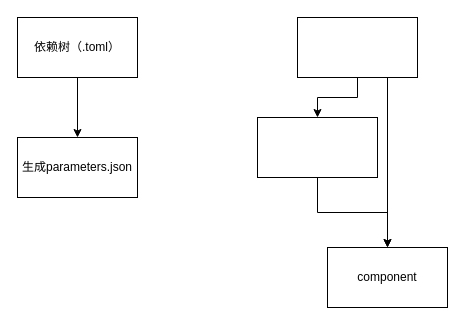
Image size: 465x325. Some labels were removed from this diagram. Here are the shapes that lost their labels. From the top down, the centre of each, then its label:
At point 357,47: "base".
At point 317,147: "common".
